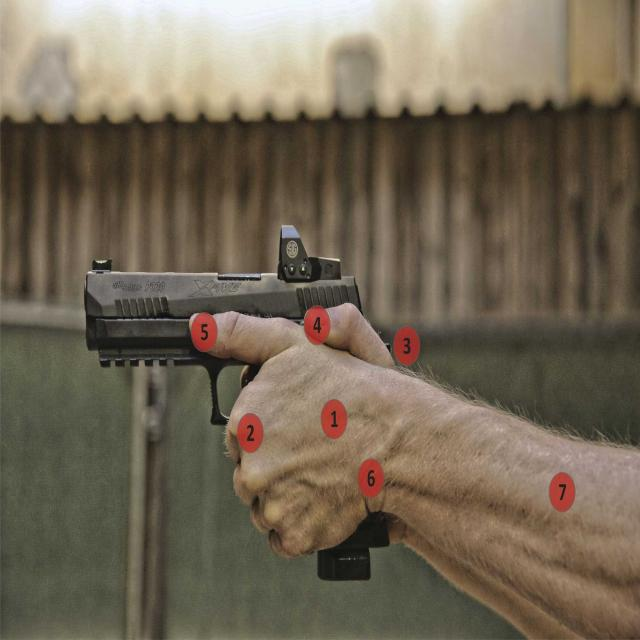HandGun: (84, 226, 363, 427)
